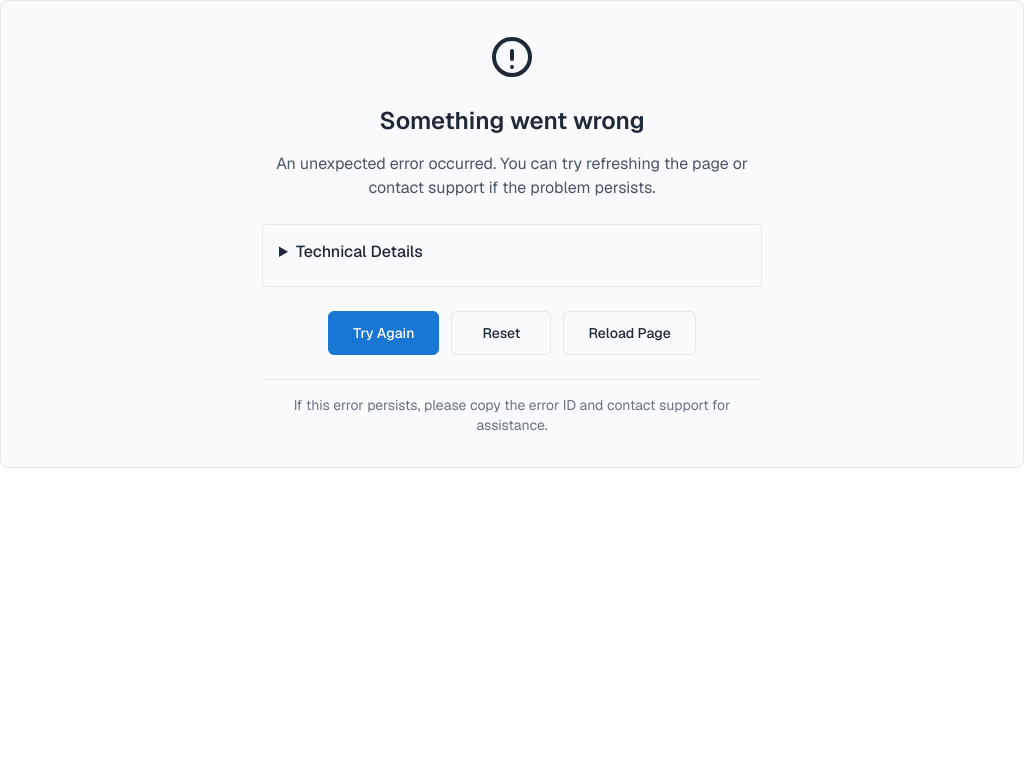
Test: ErrorBoundary › Retry Functionality › should show retry count when attempts are made
The width and height of the screenshot is (1024, 768).
Note: Click to expand details
Click the heading "Technical Details": (359, 252) [296,241,423,262]
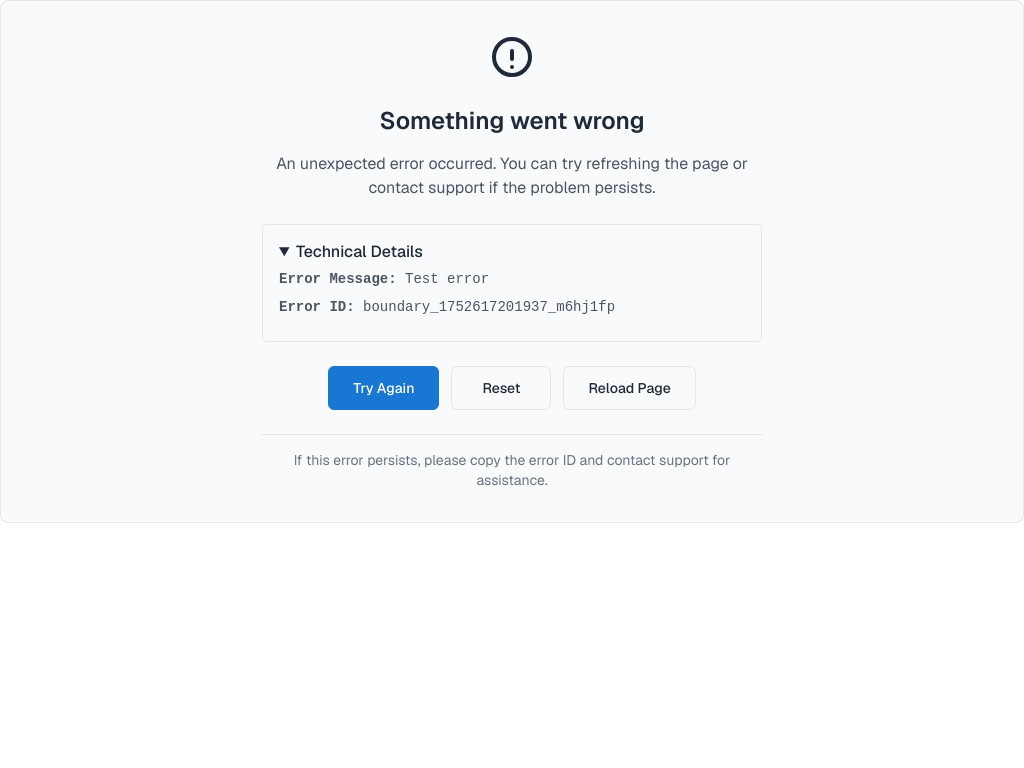
Expected: the text "Error Message:" is shown, [279,271,397,287]
Expected: the text "Error ID:" is shown, [279,299,355,315]
